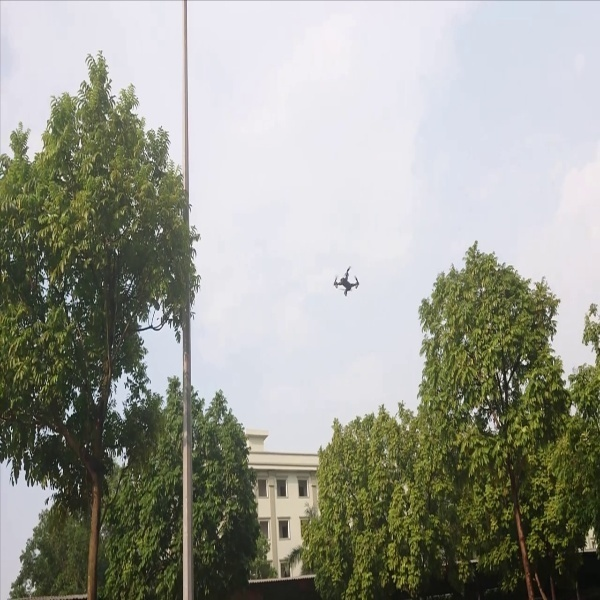drone: (324, 263, 371, 304)
